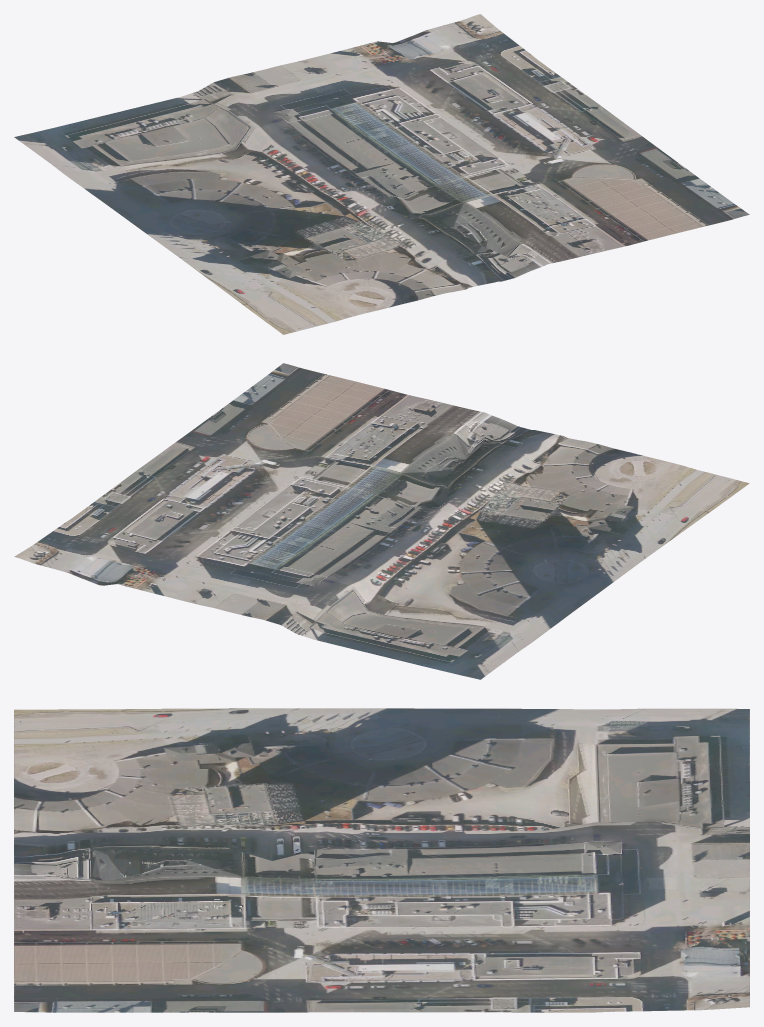
File: CM_Terrain_24488001_6820818.fbx
3 renders of one model, top to bottom at view 1: azimuth 30°, elevation 25°; view 2: azimuth 150°, elevation 25°; view 3: azimuth 270°, elevation 25°, orthographic. The views are drawn at different scales.
Parts seen in each view (by area): view 1: CM_Terrain_24488001_6820818_LOD0; view 2: CM_Terrain_24488001_6820818_LOD0; view 3: CM_Terrain_24488001_6820818_LOD0.
Part boxes in pixels (x1,y1,x2,y2): CM_Terrain_24488001_6820818_LOD0: [14, 14, 749, 334]; CM_Terrain_24488001_6820818_LOD0: [14, 363, 749, 679]; CM_Terrain_24488001_6820818_LOD0: [14, 708, 749, 1012].
Size of what is drawn, in the model's own units: 205 by 9.37 by 205.
